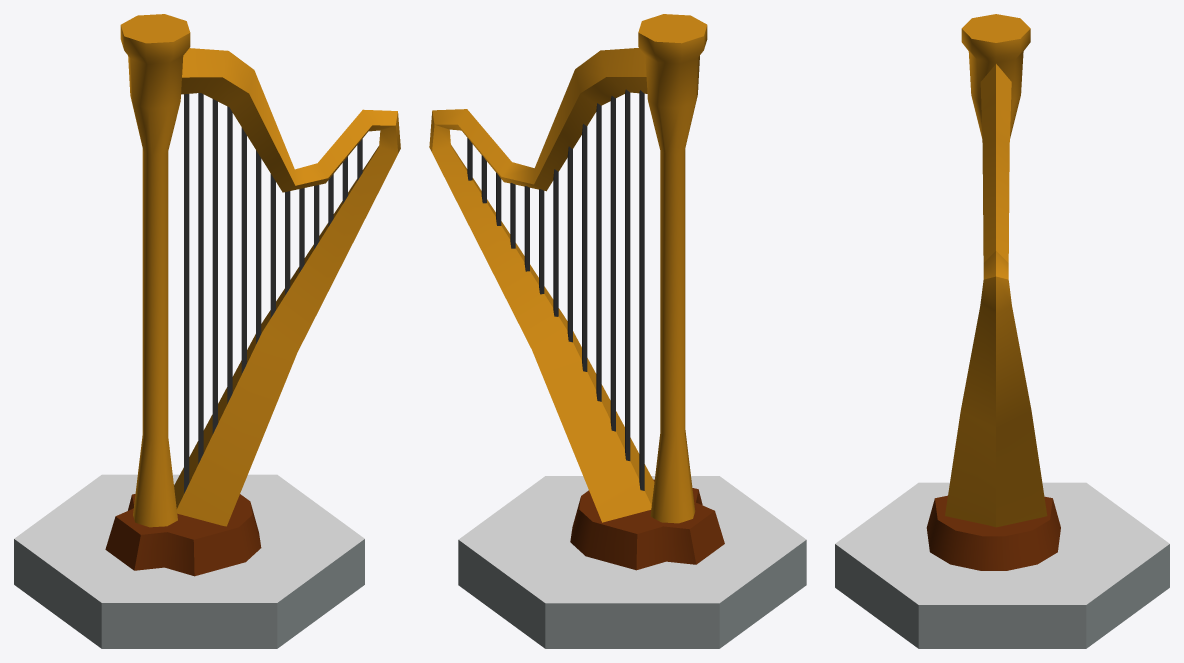
The model's file is Danhac.fbx.
The picture shows the model from 3 angles, left to right: view 1: azimuth 30°, elevation 25°; view 2: azimuth 150°, elevation 25°; view 3: azimuth 270°, elevation 25°; orthographic projection. The views are drawn at different scales.
Visible parts, largest first — view 1: Danhac; view 2: Danhac; view 3: Danhac.
Part boxes in pixels (<box>): Danhac: <box>14,14,400,648</box>; Danhac: <box>429,14,806,648</box>; Danhac: <box>835,14,1169,648</box>.
Bounding box in the file's own units: 224 × 357 × 200.
